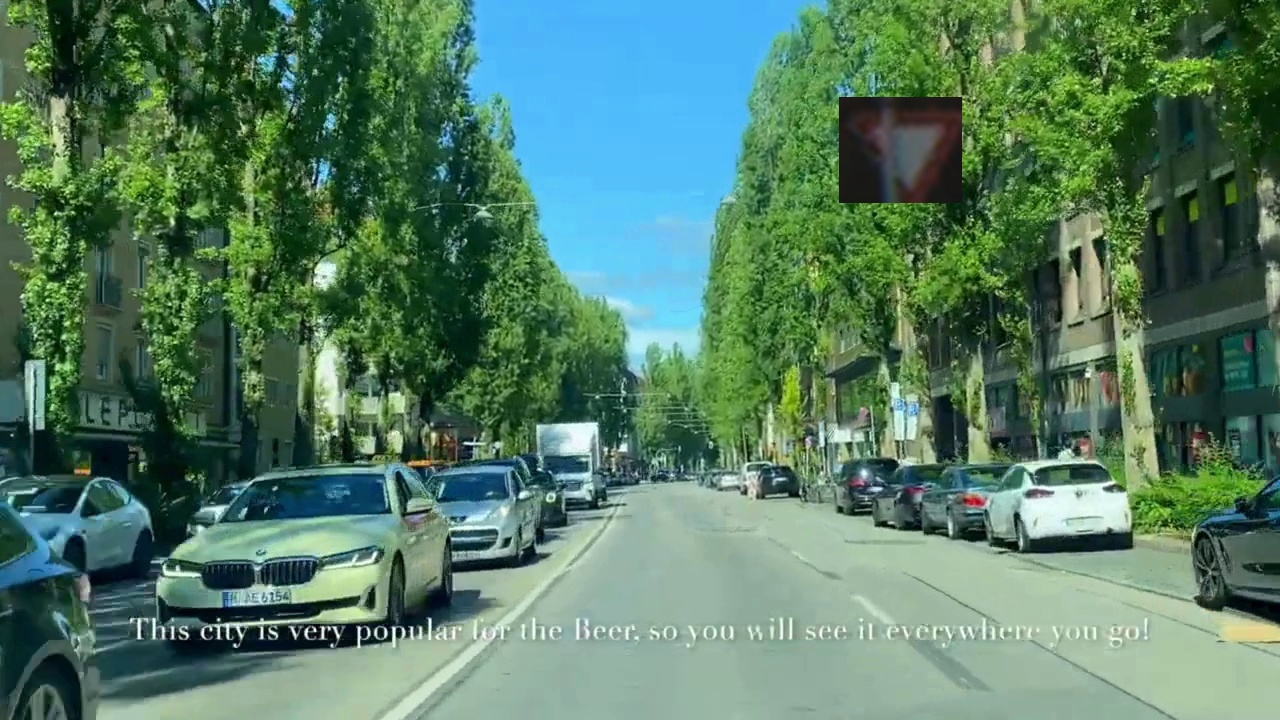Yield: (839, 97, 962, 203)
